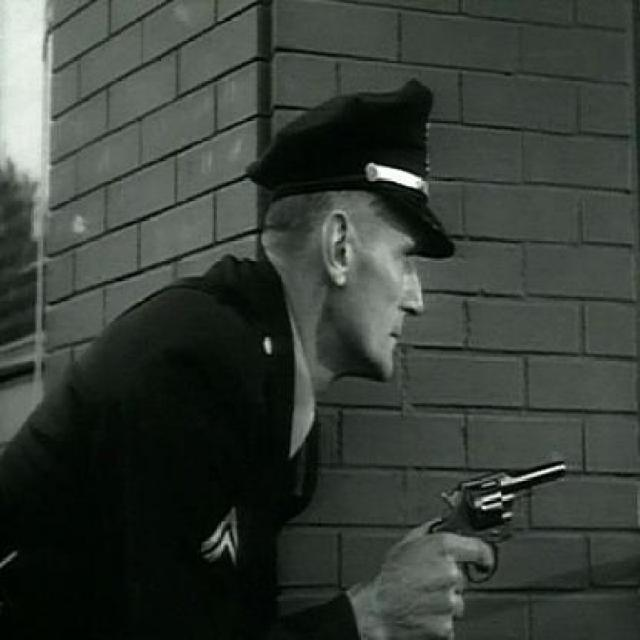gun: (434, 442, 574, 553)
